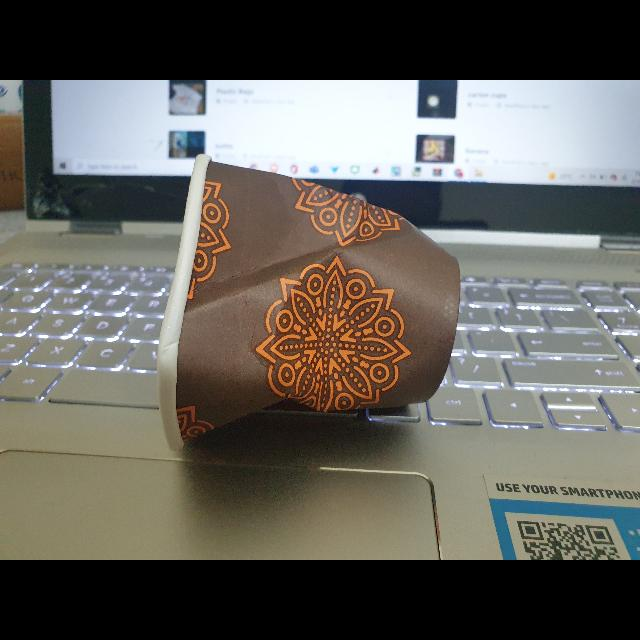trash: (150, 144, 470, 456)
